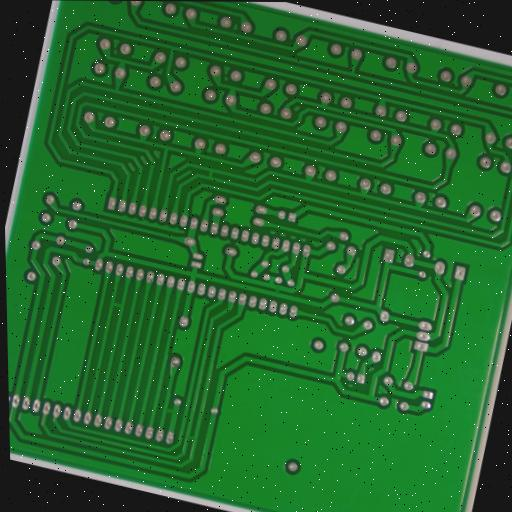short_circuit: (108, 297, 129, 314), (183, 430, 202, 446), (161, 403, 180, 418), (204, 166, 220, 183), (270, 284, 285, 302)
